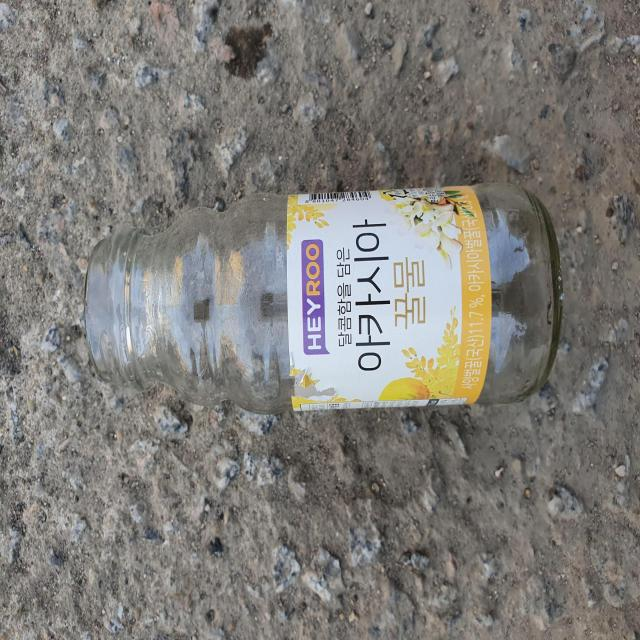glass: (84, 184, 563, 414)
